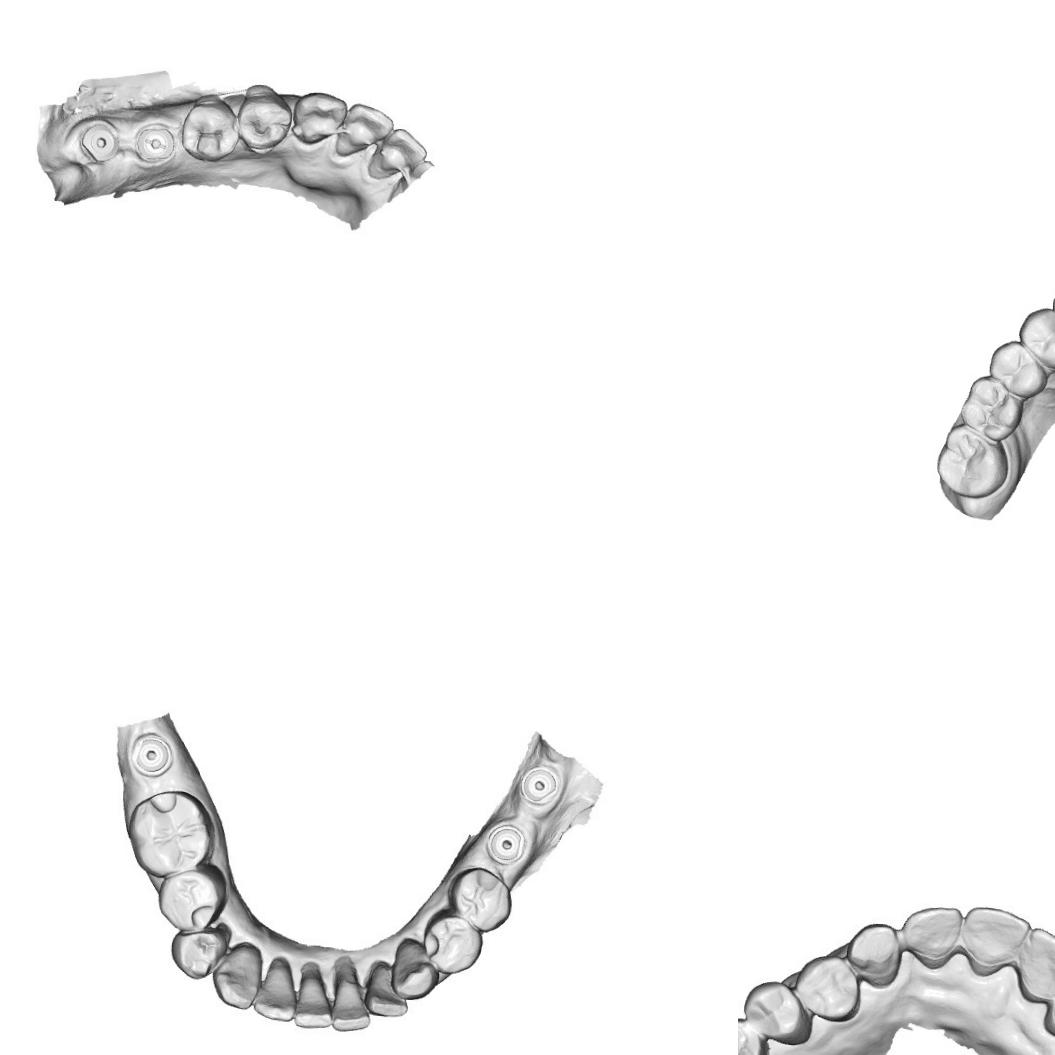canine: (845, 920, 903, 990), (212, 938, 266, 1012), (388, 938, 440, 1004), (293, 89, 346, 150)
implant: (125, 726, 176, 782), (482, 820, 533, 875), (74, 112, 122, 167), (518, 764, 566, 810)
implant_minus: (131, 117, 179, 169)
incisor: (964, 905, 1031, 977), (900, 904, 965, 972), (367, 123, 432, 180), (333, 100, 394, 160), (330, 957, 374, 1035), (362, 956, 409, 1024), (1016, 925, 1055, 1004), (254, 958, 295, 1024), (295, 965, 334, 1030), (1040, 972, 1055, 1040)
molar: (128, 788, 216, 880), (934, 423, 1009, 500), (958, 373, 1024, 443), (738, 1014, 772, 1055)
premolar: (741, 977, 816, 1048), (794, 952, 862, 1024), (446, 864, 514, 934), (156, 868, 223, 936), (234, 88, 294, 156), (986, 338, 1050, 401), (422, 913, 486, 976), (180, 95, 238, 163), (167, 923, 230, 982), (1016, 305, 1055, 373)
